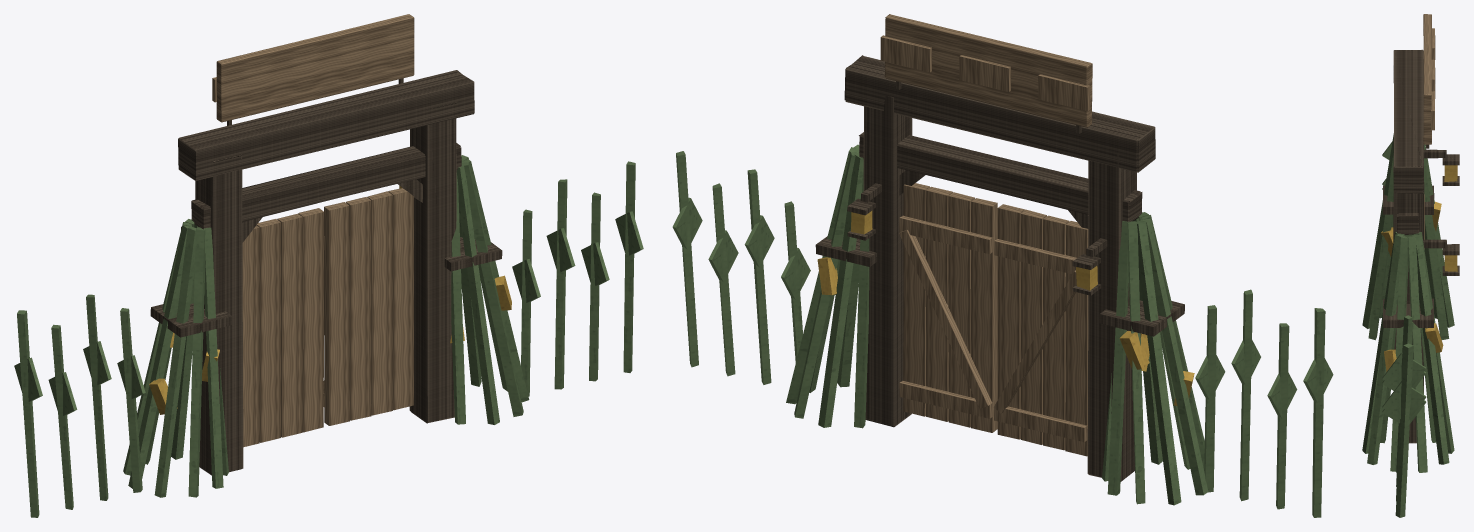
File: corn_maze_gate.glb
The picture shows the model from 3 angles, left to right: view 1: azimuth 30°, elevation 25°; view 2: azimuth 150°, elevation 25°; view 3: azimuth 270°, elevation 25°; orthographic projection. The views are drawn at different scales.
Parts seen in each view (by area): view 1: CornMazeGate, Door2, Door; view 2: CornMazeGate, Door2, Door; view 3: CornMazeGate.
Boxes of the visible parts, x1,y1,x2,y2 form: CornMazeGate: [14, 14, 643, 517]; Door2: [323, 188, 413, 425]; Door: [242, 208, 323, 447]; CornMazeGate: [672, 14, 1333, 517]; Door2: [899, 183, 997, 432]; Door: [994, 204, 1088, 456]; CornMazeGate: [1362, 14, 1459, 517].
Bounding box in the file's own units: 8.08 × 4.92 × 1.28.
4 materials, 4 textured.
